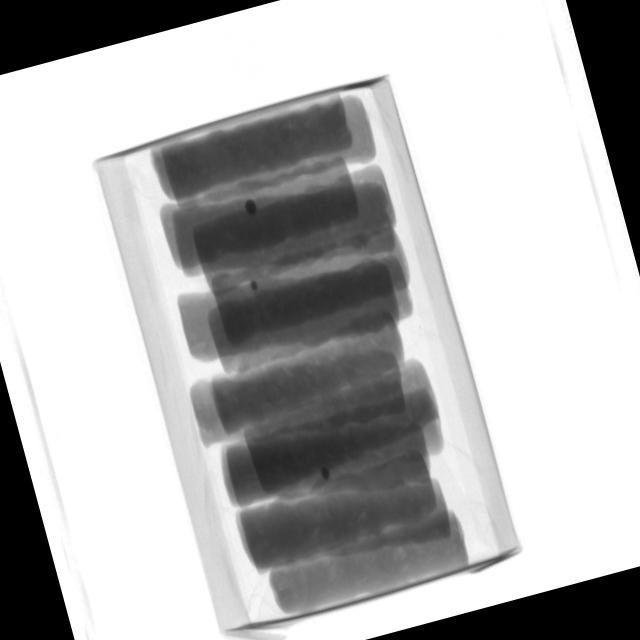ym: (243, 197, 259, 217), (319, 466, 332, 481), (252, 280, 262, 292)
